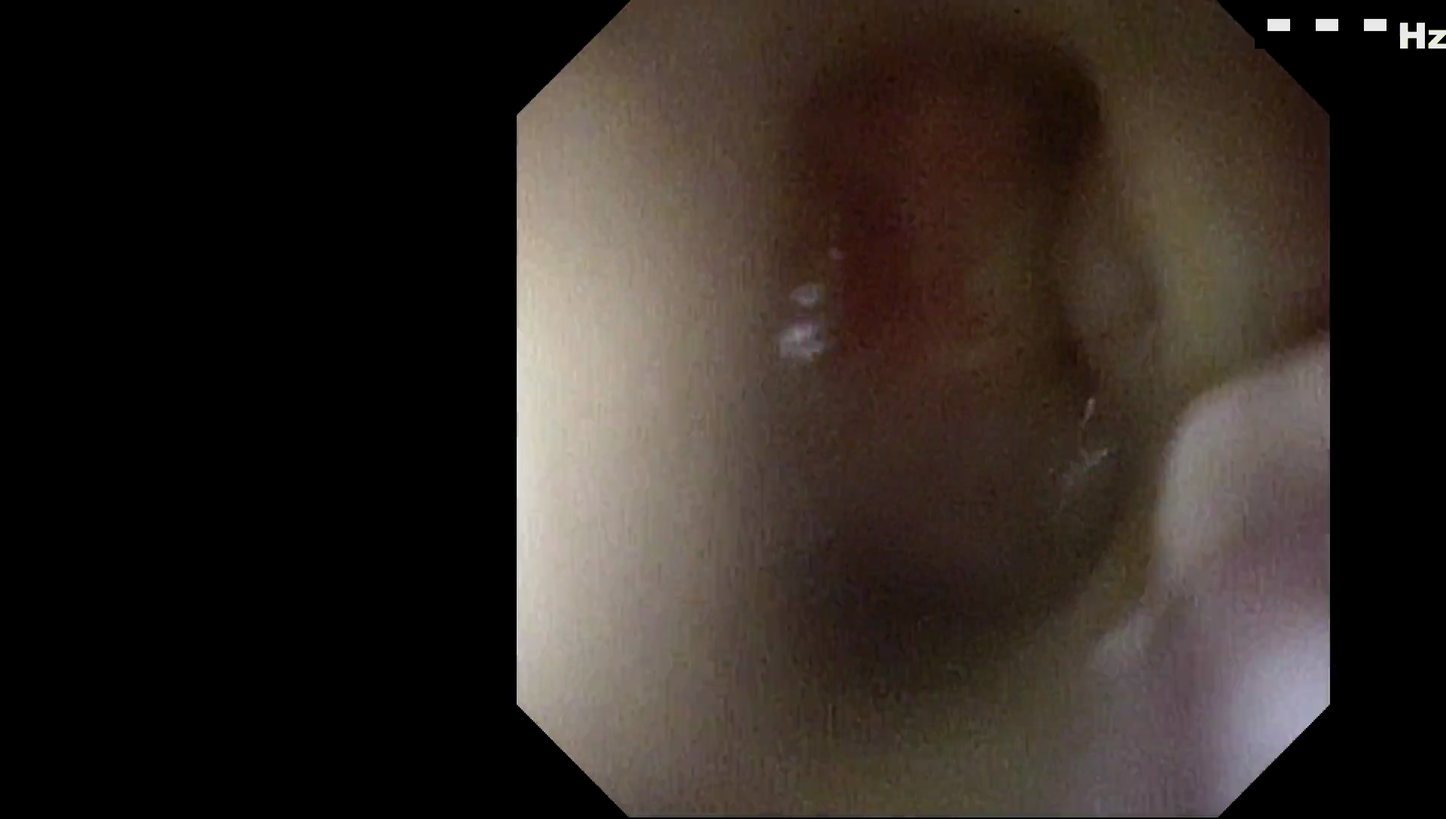close_wall: (520, 126, 861, 699)
next: (716, 474, 1075, 703), (970, 22, 1132, 224)
